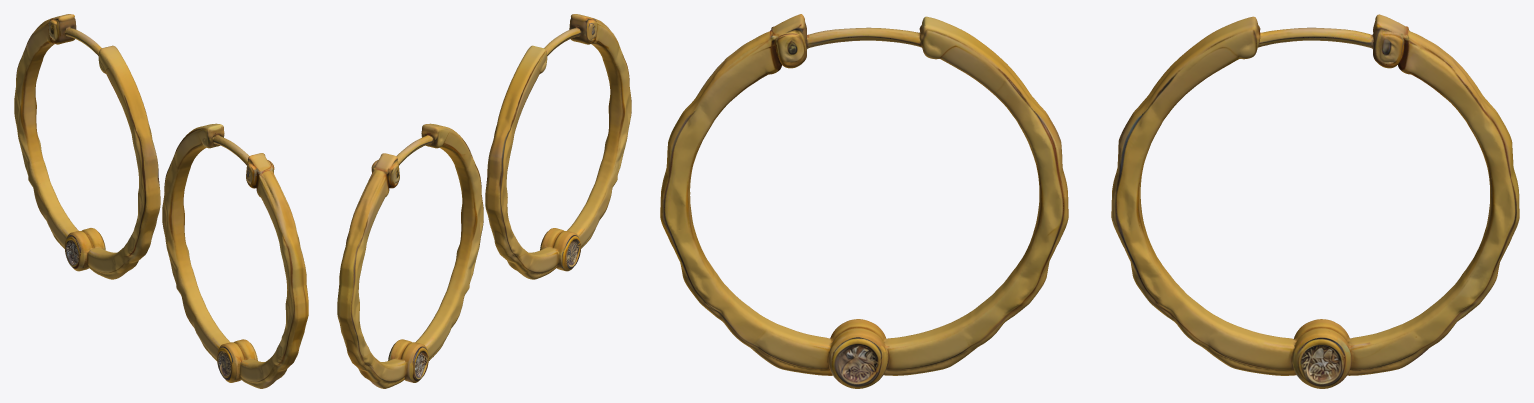
3 renders of one model, left to right at view 1: azimuth 30°, elevation 25°; view 2: azimuth 150°, elevation 25°; view 3: azimuth 270°, elevation 25°, orthographic. The views are drawn at different scales.
Parts seen in each view (by area): view 1: tripo_node_9f1306f8-8177-45dc-8d7e-8aed33243681; view 2: tripo_node_9f1306f8-8177-45dc-8d7e-8aed33243681; view 3: tripo_node_9f1306f8-8177-45dc-8d7e-8aed33243681.
Part boxes in pixels (left/top/right/bottom): tripo_node_9f1306f8-8177-45dc-8d7e-8aed33243681: left=14, top=14, right=308, bottom=388; tripo_node_9f1306f8-8177-45dc-8d7e-8aed33243681: left=337, top=14, right=631, bottom=388; tripo_node_9f1306f8-8177-45dc-8d7e-8aed33243681: left=660, top=14, right=1519, bottom=388.
Size of the model in its own units: 0.0534 by 0.4671 by 1.
Materials: 1 (1 with a texture image).
